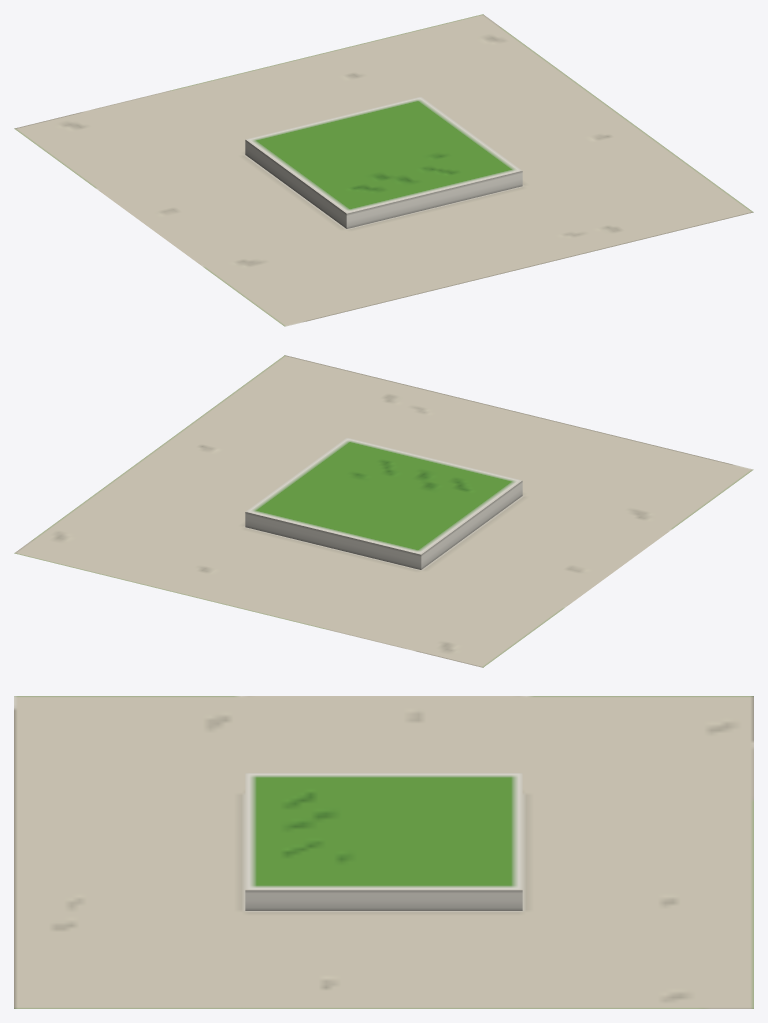
The model's file is Parque_Plaza_Jardinera.fbx.
3 renders of one model, top to bottom at view 1: azimuth 30°, elevation 25°; view 2: azimuth 150°, elevation 25°; view 3: azimuth 270°, elevation 25°, orthographic. The views are drawn at different scales.
Visible parts, largest first — view 1: Parque_Plaza_Jardinera; view 2: Parque_Plaza_Jardinera; view 3: Parque_Plaza_Jardinera.
Boxes of the visible parts, left/top/right/bottom form: Parque_Plaza_Jardinera: left=14, top=14, right=753, bottom=326; Parque_Plaza_Jardinera: left=14, top=355, right=753, bottom=667; Parque_Plaza_Jardinera: left=14, top=696, right=753, bottom=1008.
Bounding box in the file's own units: 3 × 0.0938 × 3.
1 material, 1 textured.
